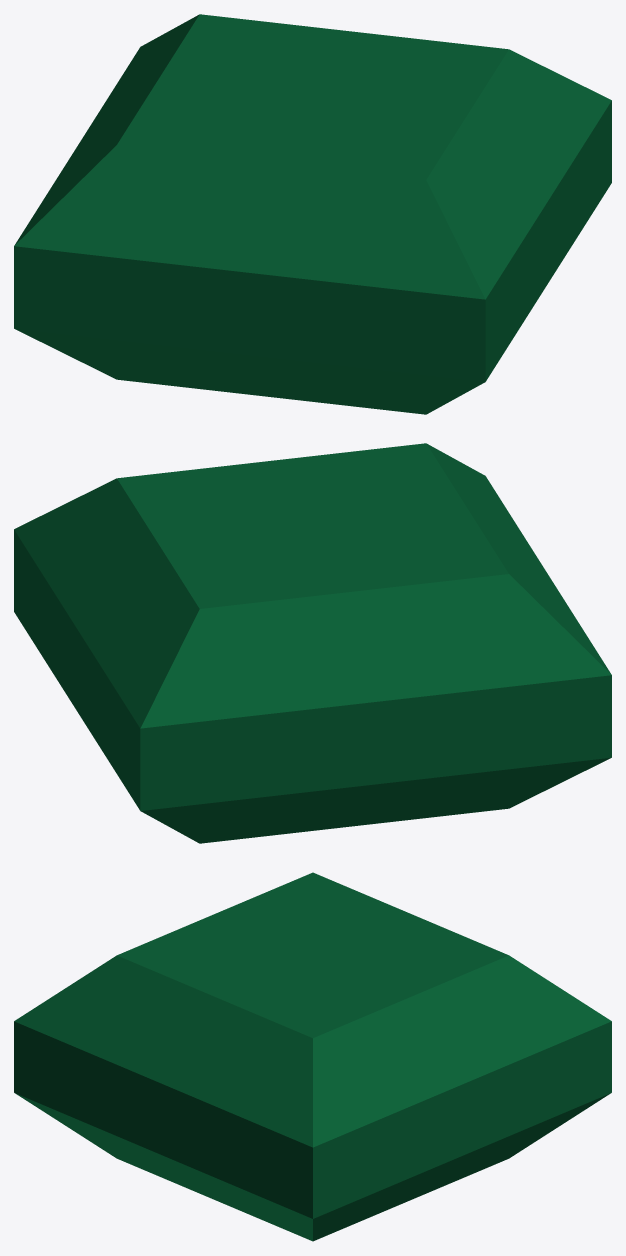
File: treasure_chest_gem_E.fbx
3 views of the same model, one above another, from view 1: azimuth 30°, elevation 25°; view 2: azimuth 150°, elevation 25°; view 3: azimuth 270°, elevation 25° (orthographic). The views are drawn at different scales.
Visible parts, largest first — view 1: treasure_chest_gem_E; view 2: treasure_chest_gem_E; view 3: treasure_chest_gem_E.
Part boxes in pixels (x1,y1,x2,y2): treasure_chest_gem_E: (14,14,611,414); treasure_chest_gem_E: (14,443,611,843); treasure_chest_gem_E: (14,872,611,1241).
Bounding box in the file's own units: 11.17 × 4.19 × 11.17.
